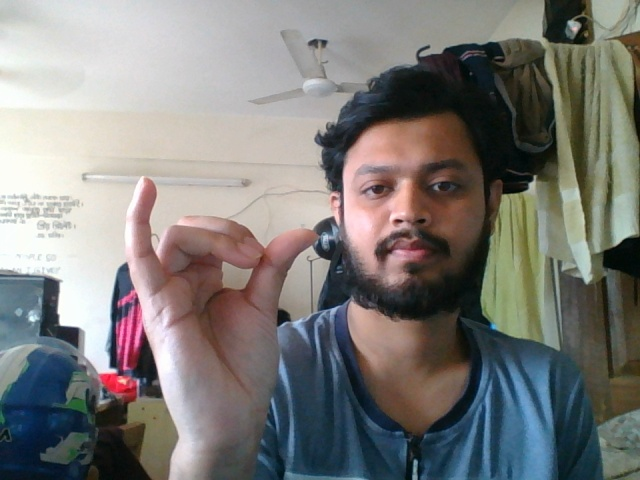oi: (121, 171, 321, 476)
